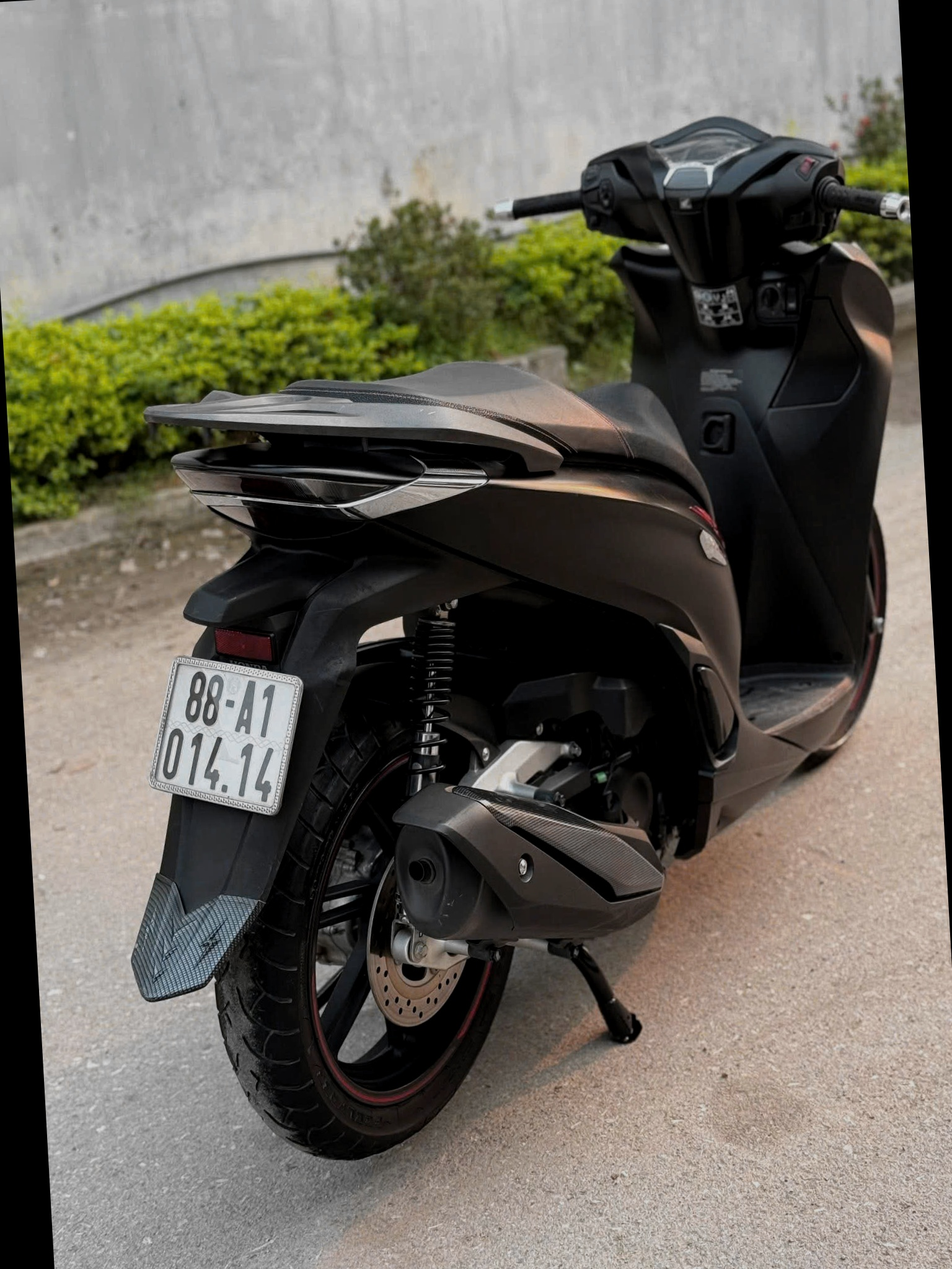Bien-so: (163, 641, 339, 816)
